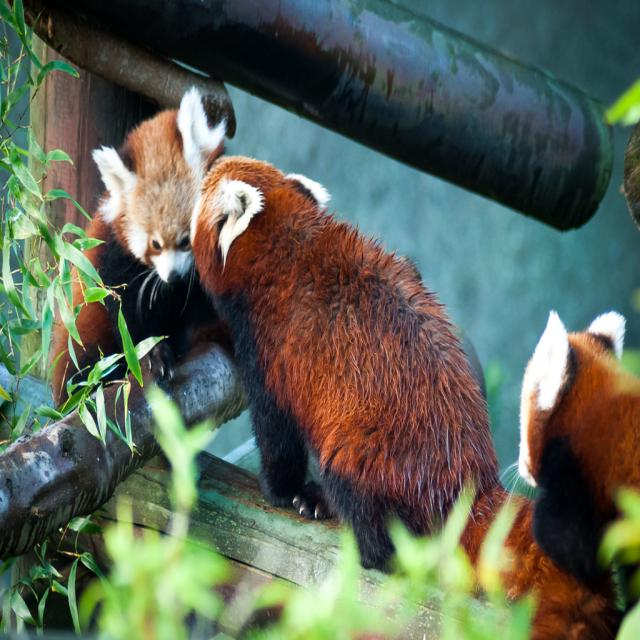panda: (76, 84, 245, 413)
